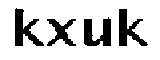k: (115, 4, 151, 50), (11, 4, 45, 48)
u: (81, 16, 113, 49)
x: (45, 14, 75, 50)
